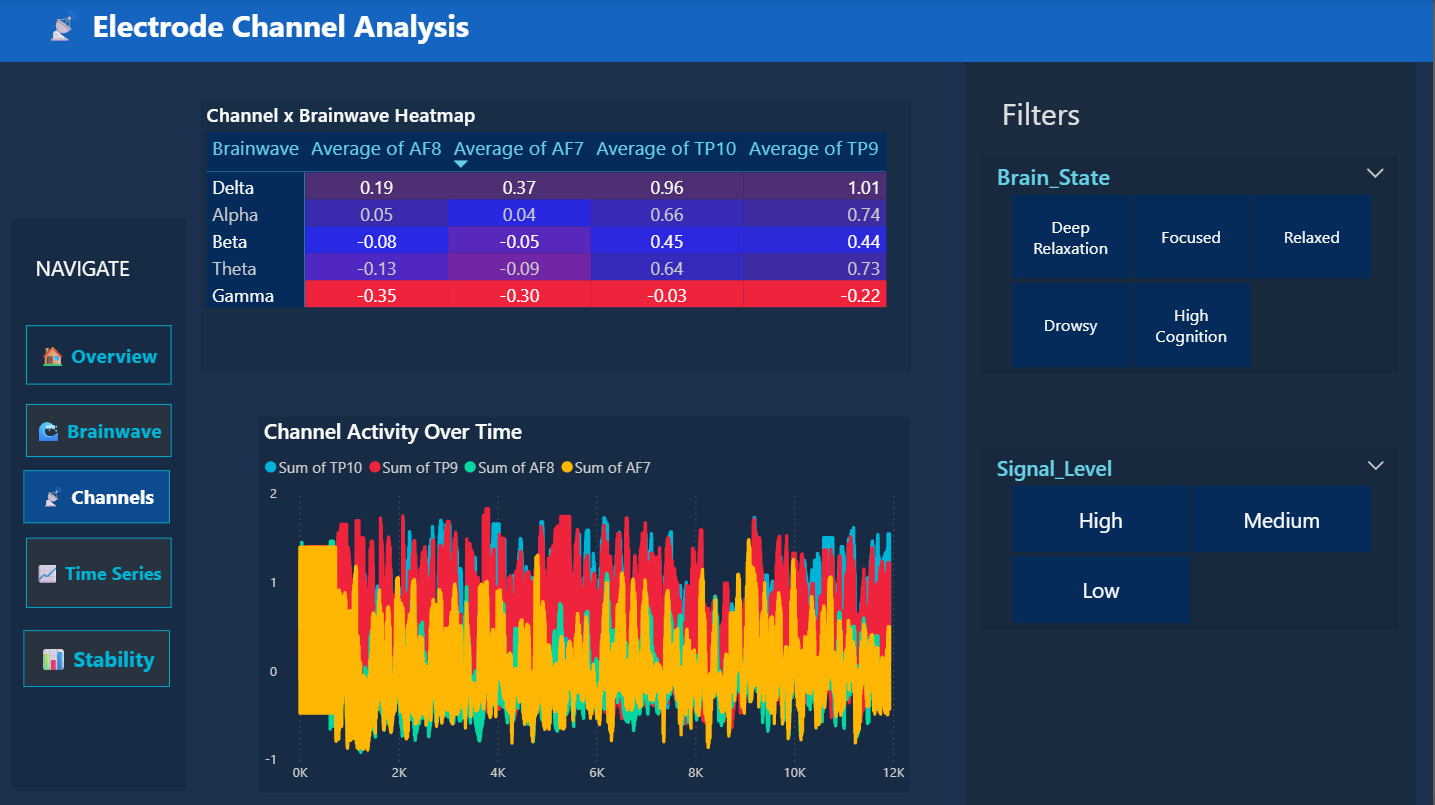

What the dashboard file says about the page in this screenshot:
{"tool":"powerbi","page":{"name":"channel analysis","canvas":[1280,720],"ordinal":2},"visuals":[{"type":"pivotTable","title":"Channel x Brainwave Heatmap","fields":{"Rows":["EEG_Data.Brainwave"],"Values":["Avg(EEG_Data.AF8)","Avg(EEG_Data.AF7)","Avg(EEG_Data.TP10)","Avg(EEG_Data.TP9)"]},"box":[182.2,91.7,632.2,242.5],"z":0},{"type":"shape","box":[862.6,56.7,401.7,663.5],"z":1000},{"type":"slicer","fields":{"Values":["EEG_Data.Signal_Level"]},"box":[878.3,399.3,370.4,162.9],"z":2000},{"type":"slicer","fields":{"Values":["EEG_Data.Brain_State"]},"box":[878.3,138.7,370.4,195.4],"z":3000},{"type":"textbox","box":[0,0,1280.3,56.3],"z":4000},{"type":"textbox","box":[877.9,79.3,104.3,50.1],"z":5000},{"type":"lineChart","title":"Channel Activity Over Time","fields":{"Category":["EEG_Data.RecordID"],"Y":["Sum(EEG_Data.TP10)","Sum(EEG_Data.TP9)","Sum(EEG_Data.AF8)","Sum(EEG_Data.AF7)"]},"box":[234,371.6,580.3,335.4],"z":7000},{"type":"shape","box":[13.9,194.8,155.8,510.6],"z":8000},{"type":"actionButton","box":[26.4,360.3,129.4,47.3],"z":9000},{"type":"actionButton","box":[25,420.2,130.8,47.3],"z":10000},{"type":"actionButton","box":[26.4,480,129.4,62.6],"z":11000},{"type":"actionButton","box":[25,562.1,130.8,50.1],"z":12000},{"type":"actionButton","box":[26.4,290.8,129.4,52.9],"z":13000},{"type":"textbox","box":[30.6,221.2,109.9,44.5],"z":14000}]}

Visuals, with their boxes in screenshot pixels (x1, y1, x2, y2), scaled from the page's 1280x720 canvas onto the 1435x805 screenshot:
"Channel x Brainwave Heatmap" pivotTable: box(204, 103, 913, 374)
shape: box(967, 63, 1417, 804)
slicer - EEG_Data.Signal_Level: box(985, 446, 1400, 629)
slicer - EEG_Data.Brain_State: box(985, 155, 1400, 374)
textbox: box(0, 0, 1434, 63)
textbox: box(984, 89, 1101, 145)
"Channel Activity Over Time" lineChart: box(262, 415, 913, 790)
shape: box(16, 218, 190, 789)
actionButton: box(30, 403, 175, 456)
actionButton: box(28, 470, 175, 523)
actionButton: box(30, 537, 175, 607)
actionButton: box(28, 628, 175, 684)
actionButton: box(30, 325, 175, 384)
textbox: box(34, 247, 158, 297)
